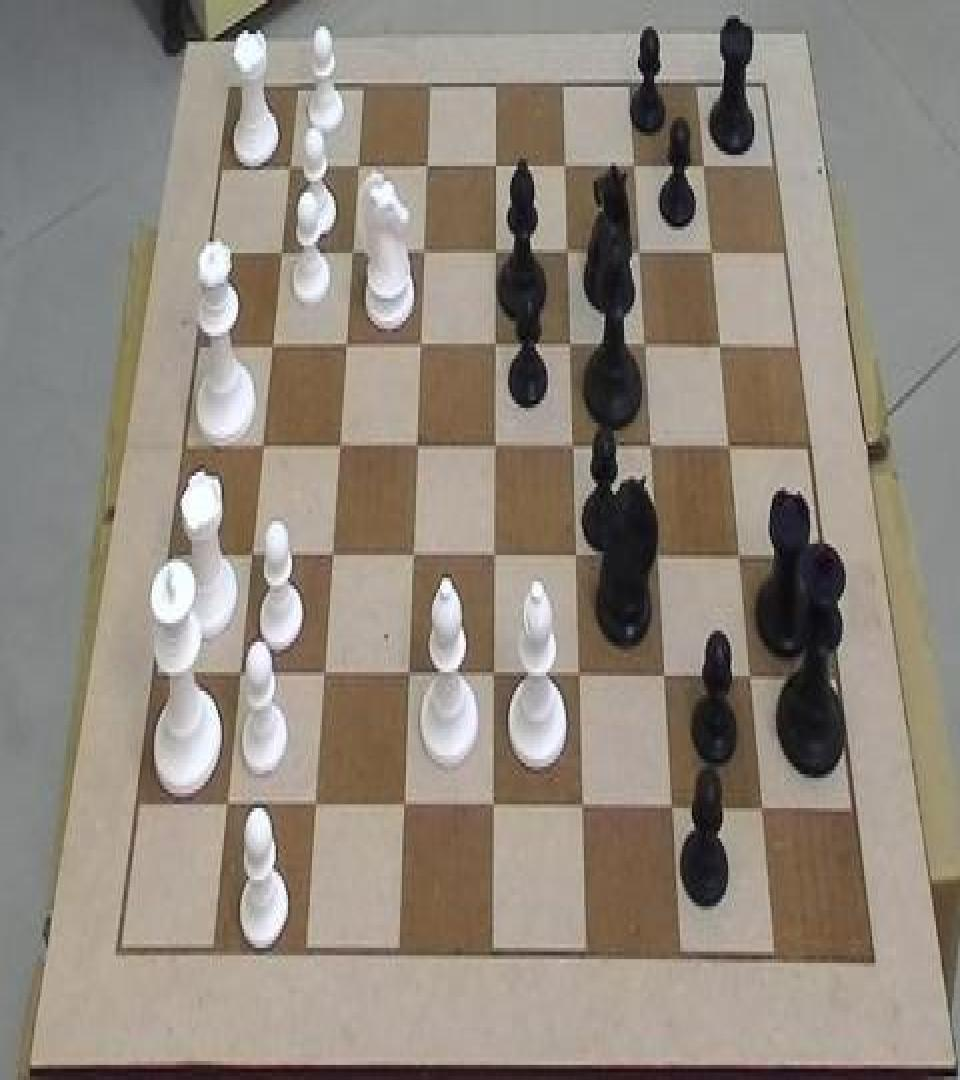xcorner: (694, 147, 714, 185), (624, 147, 644, 185), (554, 147, 574, 185), (484, 147, 504, 185), (415, 147, 435, 185), (346, 147, 366, 185), (277, 147, 297, 185), (702, 234, 722, 272), (629, 234, 649, 272), (557, 234, 577, 272), (484, 234, 504, 272), (412, 234, 432, 272), (341, 232, 361, 270), (269, 232, 289, 270), (711, 328, 731, 366), (635, 328, 655, 366), (559, 326, 579, 364), (484, 326, 504, 364), (409, 326, 429, 364), (335, 326, 355, 364), (261, 324, 281, 362), (720, 430, 740, 468), (641, 430, 661, 468), (562, 428, 582, 466), (484, 428, 504, 466), (406, 426, 426, 464), (328, 426, 348, 464), (251, 426, 271, 464), (730, 542, 750, 580), (648, 540, 668, 578), (566, 540, 586, 578), (484, 538, 504, 576), (402, 538, 422, 576), (321, 536, 341, 574), (241, 536, 261, 574), (742, 662, 762, 700), (655, 660, 675, 698), (569, 660, 589, 698), (484, 659, 504, 697), (399, 657, 419, 695), (314, 655, 334, 693), (229, 655, 249, 693), (754, 796, 774, 834), (664, 795, 684, 833), (573, 793, 593, 831), (484, 791, 504, 829), (394, 789, 414, 827), (305, 787, 325, 825), (217, 786, 237, 824)
